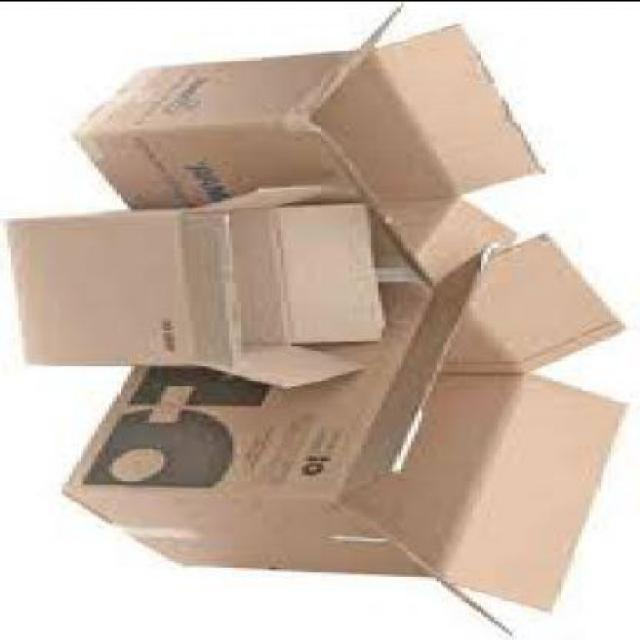box: (66, 236, 632, 636), (80, 8, 549, 288), (15, 186, 394, 392)
